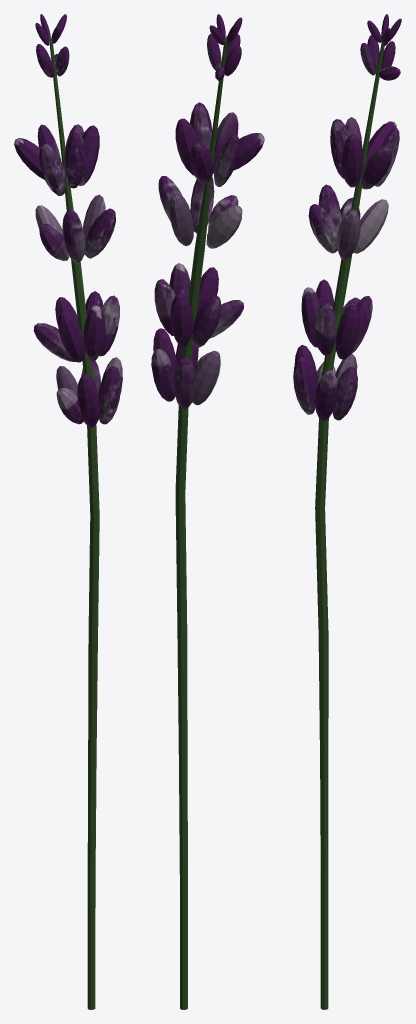
The model's file is lavender.glb.
3 views of the same model, side by side, from view 1: azimuth 30°, elevation 25°; view 2: azimuth 210°, elevation 25°; view 3: azimuth 270°, elevation 25° (orthographic). The views are drawn at different scales.
Visible parts, largest first — view 1: defaultMaterial (×2); view 2: defaultMaterial (×2); view 3: defaultMaterial (×2).
Boxes of the visible parts, box(x1,y1,x2,y2) form: defaultMaterial (×2): box(14, 14, 122, 1009); defaultMaterial (×2): box(151, 14, 264, 1009); defaultMaterial (×2): box(293, 14, 401, 1009).
Bounding box in the file's own units: 0.0825 × 1 × 0.1.
2 materials, 2 textured.
